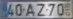0: (56, 2, 64, 17), (14, 2, 22, 17)
4: (7, 3, 13, 16)
7: (47, 3, 55, 17)
A: (24, 3, 35, 16)
Z: (36, 3, 45, 16)
